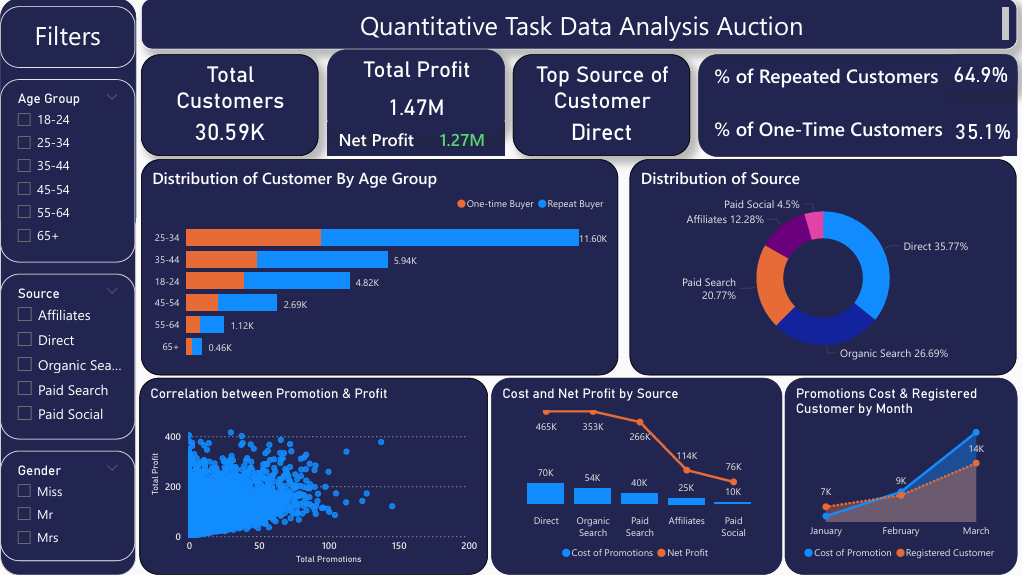

The dashboard page shown, as its layout file describes it:
{"tool":"powerbi","page":{"name":"Page 1","canvas":[1280,720],"ordinal":0},"visuals":[{"type":"group","id":"g1","title":"Group 4","box":[409,64,221.5,109.1],"z":0,"group":"g5"},{"type":"group","id":"g2","title":"Group 4","box":[1179.7,69.8,91.7,49.2],"z":0,"group":"g6"},{"type":"shape","box":[873.3,70,398.3,127.5],"z":0},{"type":"textbox","title":"2024-25 Sales Analysis Report","box":[176.1,0,1096.1,64.2],"z":1000},{"type":"textbox","box":[418,156,113,39],"z":1000,"group":"g5"},{"type":"textbox","box":[887.7,74.8,330,120.8],"z":2000,"group":"g6"},{"type":"textbox","box":[0,111.9,169.9,609.1],"z":2000},{"type":"card","fields":{"Values":["Sum(Value Info.Net Profit)"]},"box":[531,158,94,39],"z":2000,"group":"g5"},{"type":"card","title":"Total Profit","fields":{"Values":["Sum(Value Info.Total Profit)"]},"box":[409,64,221.5,109.1],"z":3000,"group":"g7"},{"type":"card","title":"Total Customers","fields":{"Values":["CountNonNull(Value Info.Customer ID)"]},"box":[175.9,70,221.5,127.1],"z":3000,"group":"g8"},{"type":"card","title":"Top Source of Customer","fields":{"Values":["Min(Value Info.Source of Customer)"]},"box":[641.4,70.4,221.5,127.1],"z":3000,"group":"g9"},{"type":"textbox","box":[11.4,86.3,112.4,39.1],"z":3000},{"type":"shape","box":[0,0,169.9,298.4],"z":4000},{"type":"card","title":"% of Repeat Customers","fields":{"Values":["Value Info.% of Repeat Buyers"]},"box":[1179.7,69.8,91.7,49.2],"z":4500,"group":"g12"},{"type":"card","title":"% of Repeat Customers","fields":{"Values":["Value Info.% of One Time Buyer"]},"box":[1187,133.8,84.2,63.3],"z":4500,"group":"g10"},{"type":"group","id":"g3","title":"Group 4","box":[175.9,70,221.5,127.1],"z":5000},{"type":"shape","box":[409.2,155.1,221.4,41.8],"z":6000},{"type":"group","id":"g4","title":"Group 4","box":[641.4,70.4,221.7,126.4],"z":7000},{"type":"group","id":"g5","title":"Group 1","box":[409,64,221.5,133],"z":8000},{"type":"group","id":"g6","title":"Group 3","box":[887.7,69.8,383.7,127.3],"z":9000},{"type":"barChart","title":"Distribution of Customer By Age Group","fields":{"Category":["Value Info.Age Group"],"Y":["CountNonNull(Value Info.Customer ID)"],"Series":["Value Info.Customer Behaviour"]},"box":[176.1,200.6,596.4,270.3],"z":10000},{"type":"donutChart","title":"Distribution of Source","fields":{"Category":["Value Info.Source of Customer"],"Y":["CountNonNull(Value Info.Customer ID)"]},"box":[786.5,200.6,484.8,270.3],"z":11000},{"type":"scatterChart","title":"Correlation between Promotion & Profit","fields":{"X":["Value Info.Total value of all promotions"],"Y":["Value Info.Total Profit"]},"box":[174.4,474.4,436,245.9],"z":12000},{"type":"slicer","fields":{"Values":["Value Info.Title"]},"box":[0,565,169.2,137.8],"z":13000},{"type":"slicer","fields":{"Values":["Value Info.Age Group"]},"box":[0,101.1,169.2,228.4],"z":14000},{"type":"group","id":"g7","title":"Group 2","box":[409,64,221.5,109.1],"z":15000,"group":"g11"},{"type":"group","id":"g8","title":"Group 2","box":[175.9,70,221.5,127.1],"z":15000,"group":"g13"},{"type":"group","id":"g9","title":"Group 2","box":[641.4,70.4,221.5,127.1],"z":15000,"group":"g14"},{"type":"group","id":"g10","title":"Group 2","box":[1187,133.8,84.2,63.3],"z":15000,"group":"g15"},{"type":"slicer","fields":{"Values":["Value Info.Source of Customer"]},"box":[0,343.6,169.2,207.5],"z":15000},{"type":"lineStackedColumnComboChart","title":"Cost and Net Profit by Source","fields":{"Category":["Value Info.Source of Customer"],"Y2":["Sum(Value Info.Net Profit)"],"Y":["Sum(Value Info.Total value of all promotions)"]},"box":[613.9,474.1,364.5,245.9],"z":16000},{"type":"group","id":"g11","title":"Group 5","box":[409,64,221.5,109.1],"z":16501,"group":"g1"},{"type":"group","id":"g12","title":"Group 5","box":[1179.7,69.8,91.7,49.2],"z":16501,"group":"g2"},{"type":"group","id":"g13","title":"Group 5","box":[175.9,70,221.5,127.1],"z":16501,"group":"g3"},{"type":"group","id":"g14","title":"Group 5","box":[641.4,70.4,221.5,127.1],"z":16501,"group":"g4"},{"type":"group","id":"g15","title":"Group 5","box":[1187,133.8,84.2,63.3],"z":16501,"group":"g6"},{"type":"areaChart","title":"Promotions Cost & Registered Customer by Month","fields":{"Category":["Value Info.Registration Date.Variation.Date Hierarchy.Month"],"Y":["Sum(Value Info.Total value of all promotions)"],"Y2":["CountNonNull(Value Info.Customer ID)"]},"box":[981,474,291,246],"z":17000},{"type":"textbox","box":[0,10.5,169.2,76.7],"z":18000}]}

Visuals, with their boxes in screenshot pixels (x1, y1, x2, y2), scaled from the page's 1280x720 canvas onto the 1022x577 screenshot:
"Group 4" group: <region>327, 51, 503, 139</region>
"Group 4" group: <region>942, 56, 1015, 95</region>
shape: <region>697, 56, 1015, 158</region>
"2024-25 Sales Analysis Report" textbox: <region>141, 0, 1016, 51</region>
textbox: <region>334, 125, 424, 156</region>
textbox: <region>709, 60, 972, 157</region>
textbox: <region>0, 90, 136, 576</region>
card - Sum(Value Info.Net Profit): <region>424, 127, 499, 158</region>
"Total Profit" card: <region>327, 51, 503, 139</region>
"Total Customers" card: <region>140, 56, 317, 158</region>
"Top Source of Customer" card: <region>512, 56, 689, 158</region>
textbox: <region>9, 69, 99, 100</region>
shape: <region>0, 0, 136, 239</region>
"% of Repeat Customers" card: <region>942, 56, 1015, 95</region>
"% of Repeat Customers" card: <region>948, 107, 1015, 158</region>
"Group 4" group: <region>140, 56, 317, 158</region>
shape: <region>327, 124, 503, 158</region>
"Group 4" group: <region>512, 56, 689, 158</region>
"Group 1" group: <region>327, 51, 503, 158</region>
"Group 3" group: <region>709, 56, 1015, 158</region>
"Distribution of Customer By Age Group" barChart: <region>141, 161, 617, 377</region>
"Distribution of Source" donutChart: <region>628, 161, 1015, 377</region>
"Correlation between Promotion & Profit" scatterChart: <region>139, 380, 487, 576</region>
slicer - Value Info.Title: <region>0, 453, 135, 563</region>
slicer - Value Info.Age Group: <region>0, 81, 135, 264</region>
"Group 2" group: <region>327, 51, 503, 139</region>
"Group 2" group: <region>140, 56, 317, 158</region>
"Group 2" group: <region>512, 56, 689, 158</region>
"Group 2" group: <region>948, 107, 1015, 158</region>
slicer - Value Info.Source of Customer: <region>0, 275, 135, 442</region>
"Cost and Net Profit by Source" lineStackedColumnComboChart: <region>490, 380, 781, 576</region>
"Group 5" group: <region>327, 51, 503, 139</region>
"Group 5" group: <region>942, 56, 1015, 95</region>
"Group 5" group: <region>140, 56, 317, 158</region>
"Group 5" group: <region>512, 56, 689, 158</region>
"Group 5" group: <region>948, 107, 1015, 158</region>
"Promotions Cost & Registered Customer by Month" areaChart: <region>783, 380, 1016, 576</region>
textbox: <region>0, 8, 135, 70</region>
